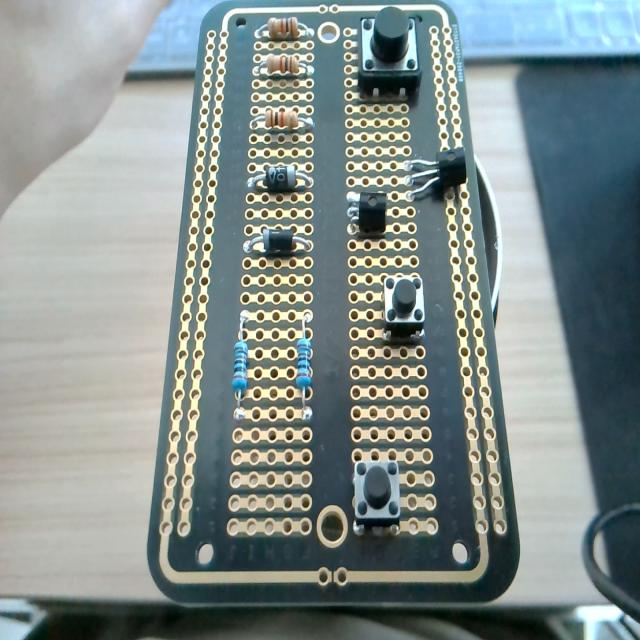diode: (242, 210, 313, 270), (247, 164, 312, 190)
resistor: (230, 310, 249, 420), (295, 314, 313, 420), (250, 108, 314, 129), (252, 52, 312, 74), (254, 19, 312, 40)
switch: (358, 9, 421, 97), (352, 456, 402, 530), (382, 274, 426, 341)
transistor: (403, 147, 468, 200), (344, 187, 390, 239)
